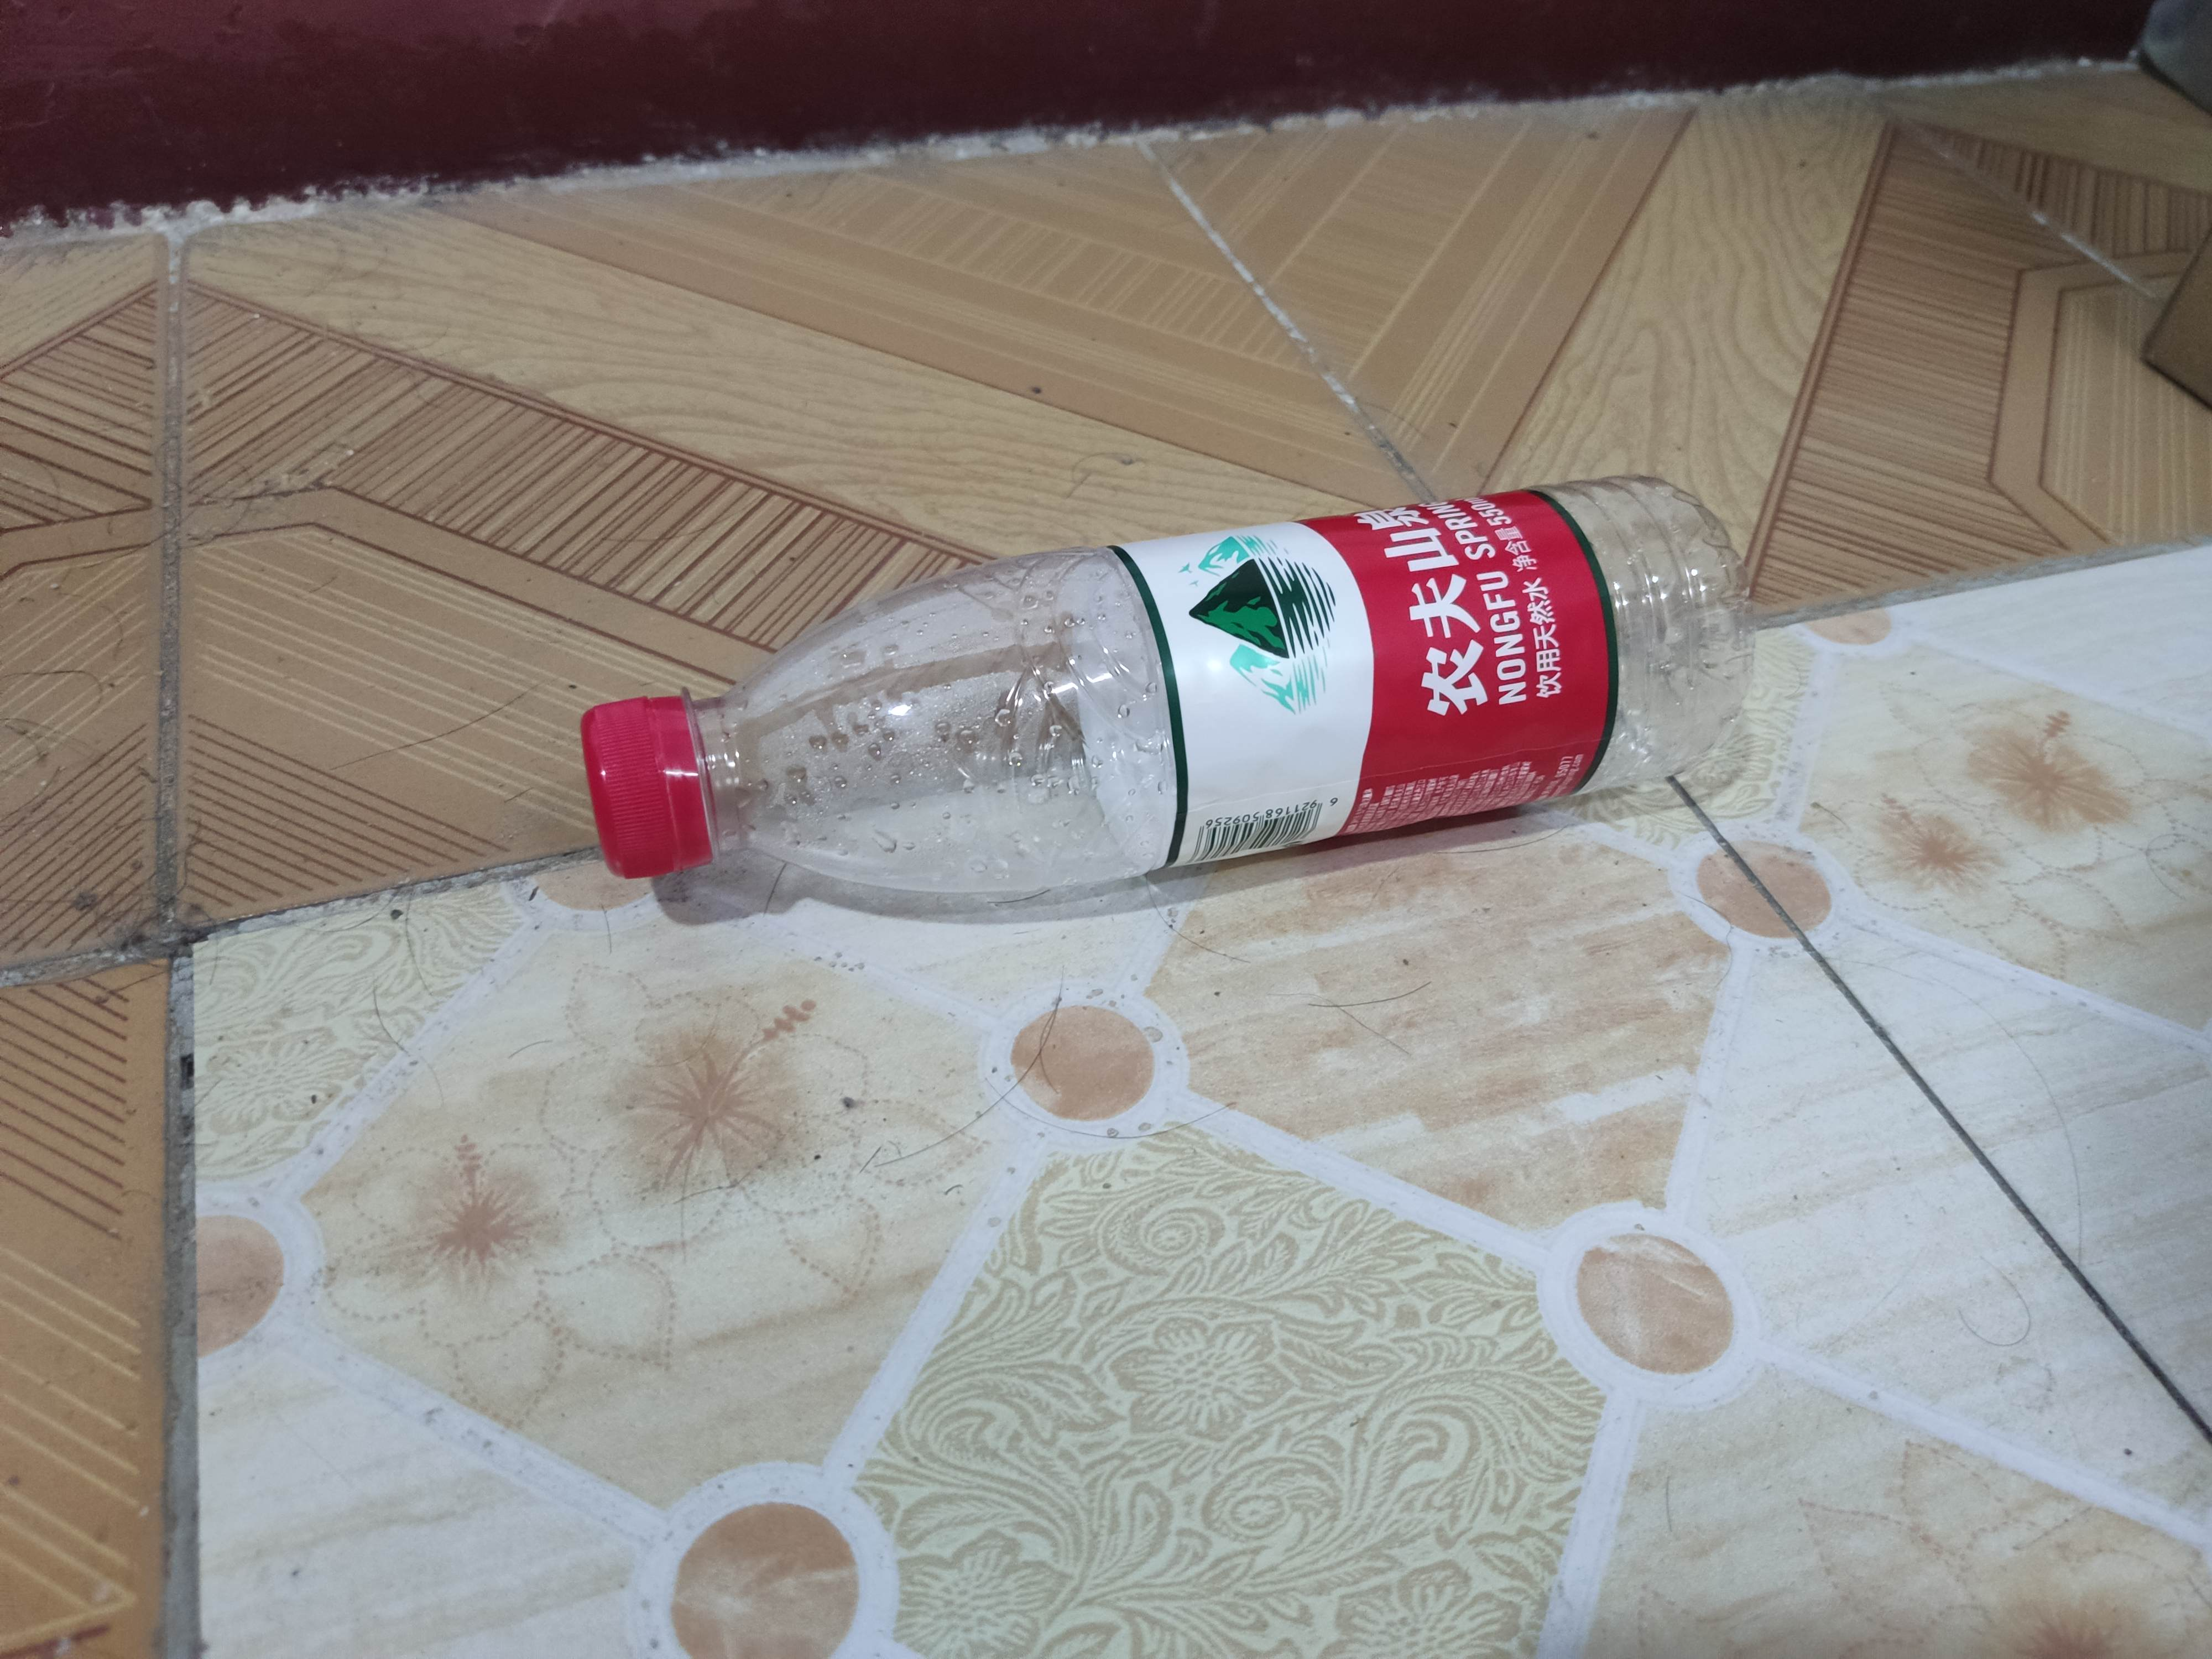Plastic Bottle: (575, 469, 1761, 899)
